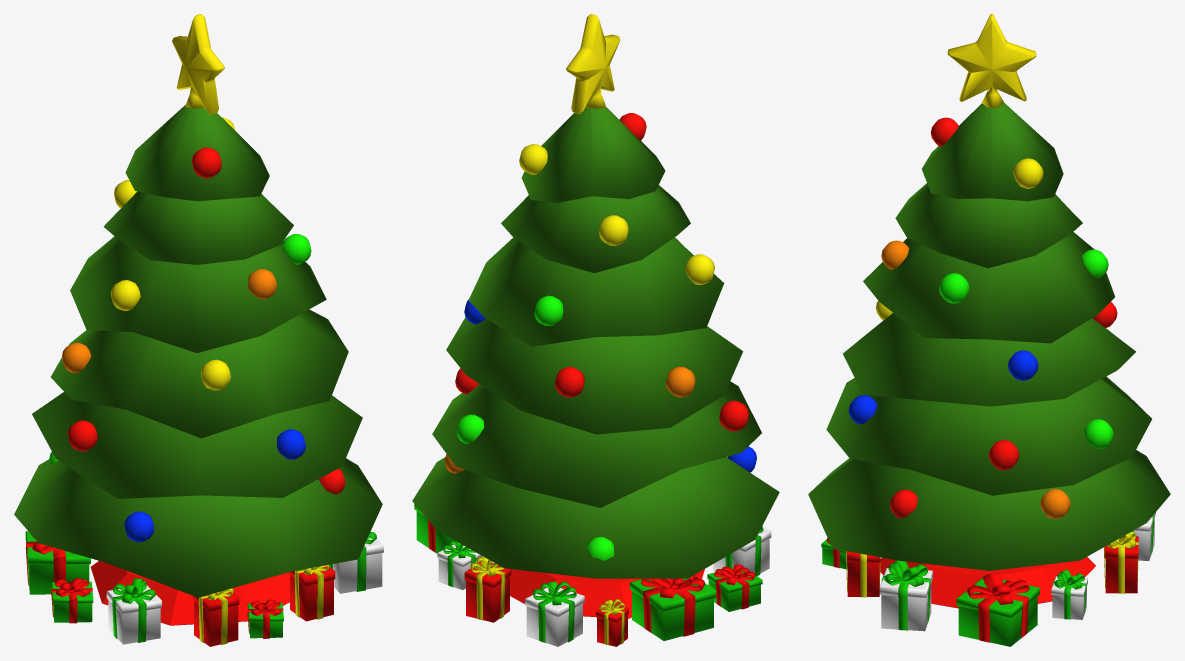
File: christmastree.fbx
The picture shows the model from 3 angles, left to right: view 1: azimuth 30°, elevation 25°; view 2: azimuth 150°, elevation 25°; view 3: azimuth 270°, elevation 25°; orthographic projection.
Parts seen in each view (by area): view 1: christmas tree; view 2: christmas tree; view 3: christmas tree.
Part boxes in pixels (x1=…): christmas tree: x1=14, y1=14, x2=383, y2=646; christmas tree: x1=412, y1=14, x2=779, y2=646; christmas tree: x1=808, y1=14, x2=1170, y2=646.
Bounding box in the file's own units: 472 × 768 × 455.
Materials: 4 (4 with a texture image).
